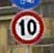limite 10: (9, 10, 44, 44)
